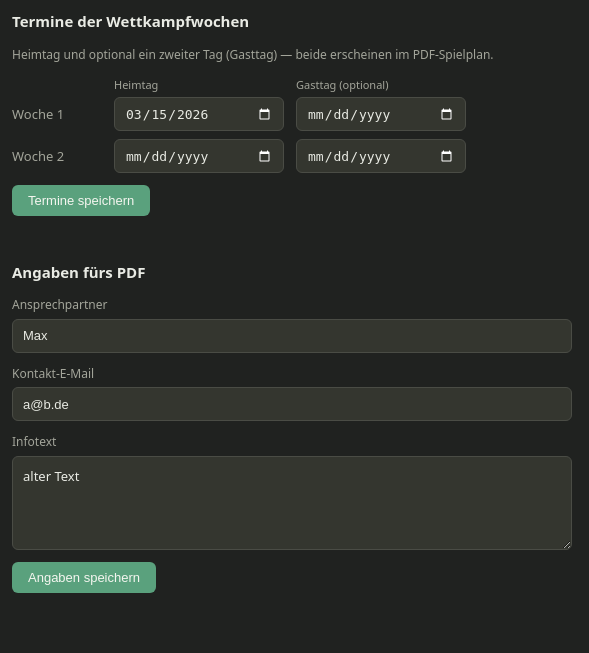
Test: DatesInfoTab › saves all weeks with home and guest dates (empty as null)
// Order: week1 home, week1 guest, week2 home, week2 guest.
Type "2026-03-21" into the 2nd date field at (381, 114), box [296, 97, 466, 131]
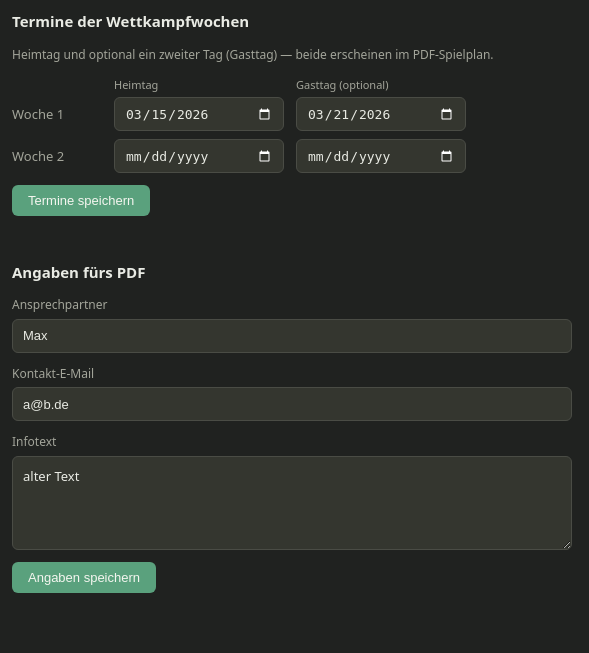
Type "2026-03-22" into the date field labelled "Woche 2" at (199, 156), box [114, 139, 284, 173]
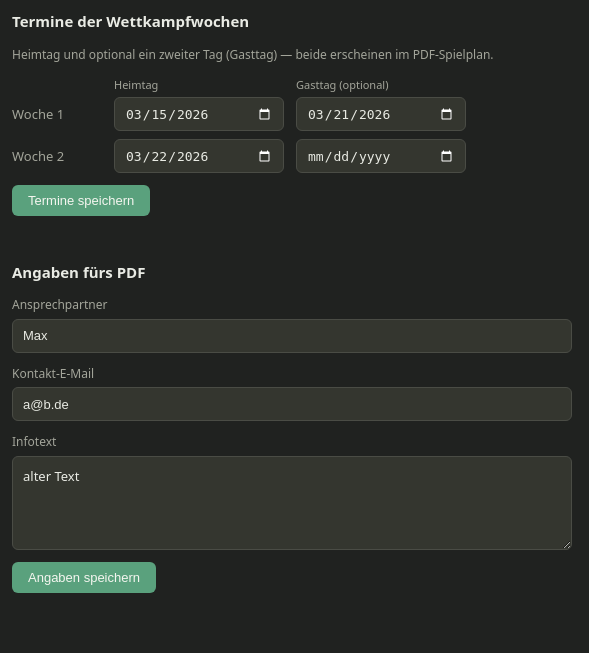
Click the button "Termine speichern" at (81, 201), box [12, 185, 150, 216]
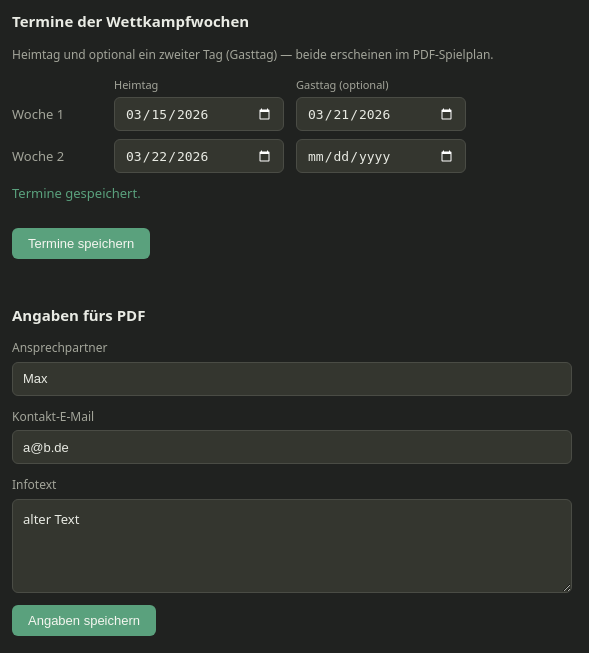
Result: the text "Termine gespeichert." is shown at [12, 184, 141, 202]
